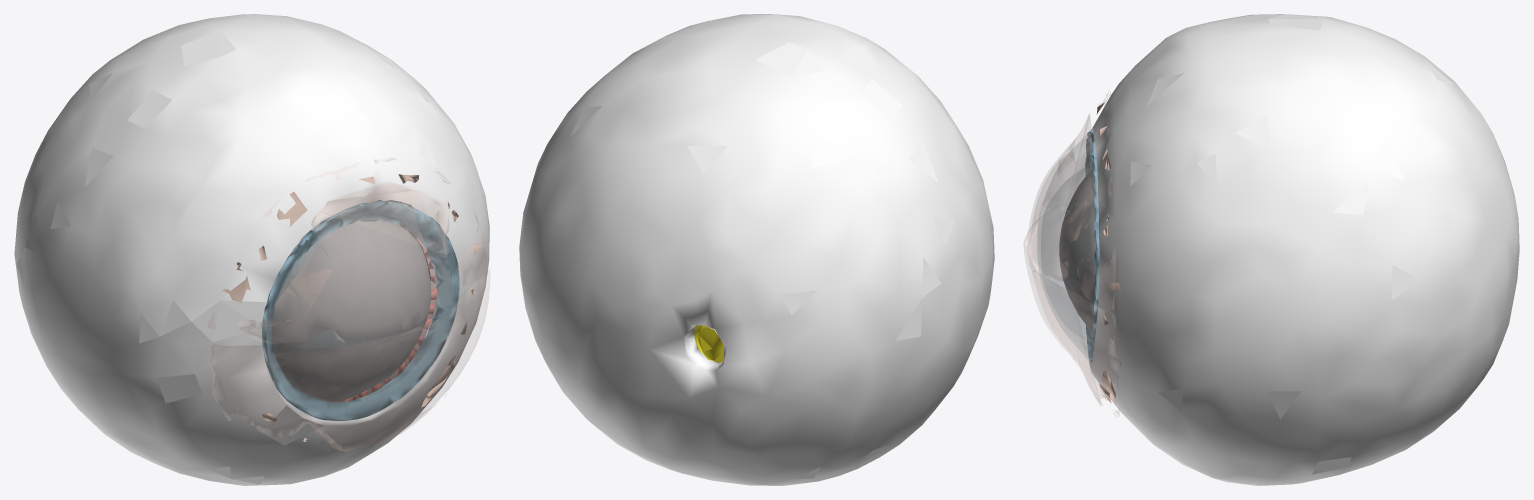
File: 3d-vh-f-eye-l_lod_20.glb
3 renders of one model, left to right at view 1: azimuth 30°, elevation 25°; view 2: azimuth 150°, elevation 25°; view 3: azimuth 270°, elevation 25°, orthographic.
Parts seen in each view (by area): view 1: VH_F_sclera_L, VH_F_cornea_L, VH_F_palpebral_conjunctiva_of_left_lower_eyelid, VH_F_palpebral_conjunctiva_of_left_upper_eyelid, VH_F_aqueous_humor_L, VH_F_corneo_scleral_junction_L, VH_F_bulbar_conjunctiva_L, VH_F_ciliary_muscle_L; view 2: VH_F_sclera_L, VH_F_optic_disc_L; view 3: VH_F_sclera_L, VH_F_cornea_L, VH_F_palpebral_conjunctiva_of_left_upper_eyelid, VH_F_palpebral_conjunctiva_of_left_lower_eyelid, VH_F_aqueous_humor_L, VH_F_corneo_scleral_junction_L, VH_F_bulbar_conjunctiva_L.
Part boxes in pixels (box(x1,y1,x2,y2)): VH_F_sclera_L: box(14, 14, 489, 485); VH_F_cornea_L: box(262, 202, 459, 420); VH_F_palpebral_conjunctiva_of_left_lower_eyelid: box(209, 268, 489, 451); VH_F_palpebral_conjunctiva_of_left_upper_eyelid: box(208, 158, 486, 344); VH_F_aqueous_humor_L: box(272, 219, 431, 401); VH_F_corneo_scleral_junction_L: box(262, 200, 459, 420); VH_F_bulbar_conjunctiva_L: box(221, 174, 481, 441); VH_F_ciliary_muscle_L: box(333, 239, 437, 402); VH_F_sclera_L: box(519, 14, 994, 485); VH_F_optic_disc_L: box(698, 325, 723, 362); VH_F_sclera_L: box(1089, 14, 1519, 485); VH_F_cornea_L: box(1037, 133, 1097, 363); VH_F_palpebral_conjunctiva_of_left_upper_eyelid: box(1027, 90, 1115, 310); VH_F_palpebral_conjunctiva_of_left_lower_eyelid: box(1024, 224, 1119, 417); VH_F_aqueous_humor_L: box(1059, 168, 1095, 331); VH_F_corneo_scleral_junction_L: box(1085, 130, 1099, 363); VH_F_bulbar_conjunctiva_L: box(1096, 93, 1121, 403).
Bounding box in the file's own units: 0.0244 × 0.0244 × 0.0257.
